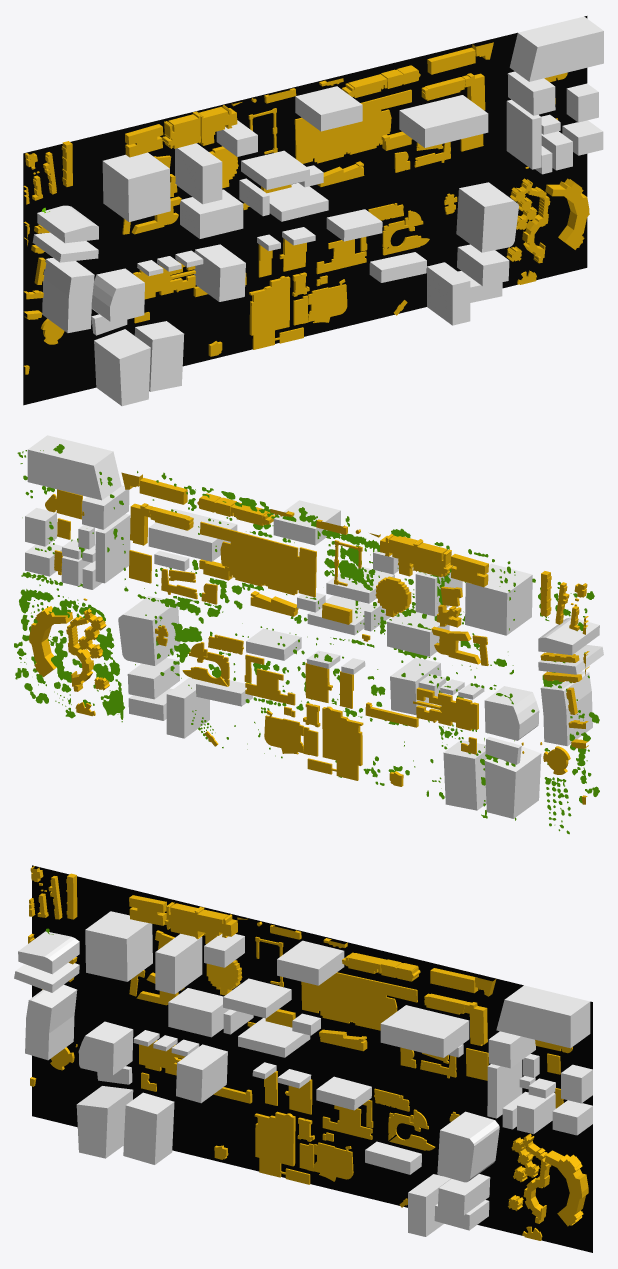
Rendered from new_high_buildings_10.glb.
The picture shows the model from 3 angles, top to bottom: view 1: azimuth 30°, elevation 25°; view 2: azimuth 150°, elevation 25°; view 3: azimuth 330°, elevation 25°; orthographic projection.
Parts seen in each view (by area): view 1: new buildings, Layer 04, existing_building - Copy; view 2: new buildings, existing_building - Copy, treesurface; view 3: new buildings, Layer 04, existing_building - Copy.
Part boxes in pixels (box(x1,y1,x2,y2)): new buildings: box(32, 16, 603, 406); Layer 04: box(23, 16, 587, 405); existing_building - Copy: box(23, 42, 589, 374); new buildings: box(25, 435, 603, 818); existing_building - Copy: box(29, 472, 589, 804); treesurface: box(14, 444, 599, 834); new buildings: box(14, 911, 592, 1236); Layer 04: box(32, 865, 592, 1252); existing_building - Copy: box(28, 866, 588, 1240).
Bounding box in the file's own units: 1035 × 458 × 84.18.
